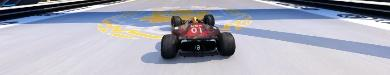Car: (160, 14, 235, 58)
Solid White and black: (97, 9, 252, 40)
